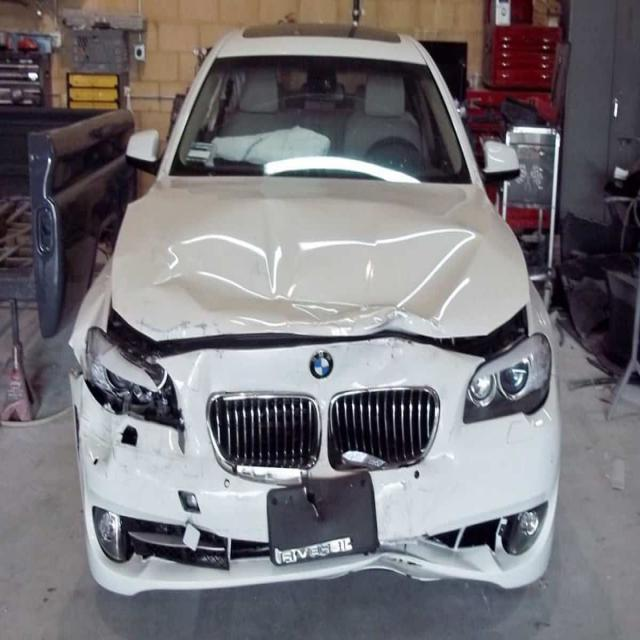Headlight-Damage: (54, 326, 189, 442)
bonnet-dent: (112, 194, 524, 344)
front-bumper-dent: (266, 462, 552, 606), (70, 426, 276, 600)
